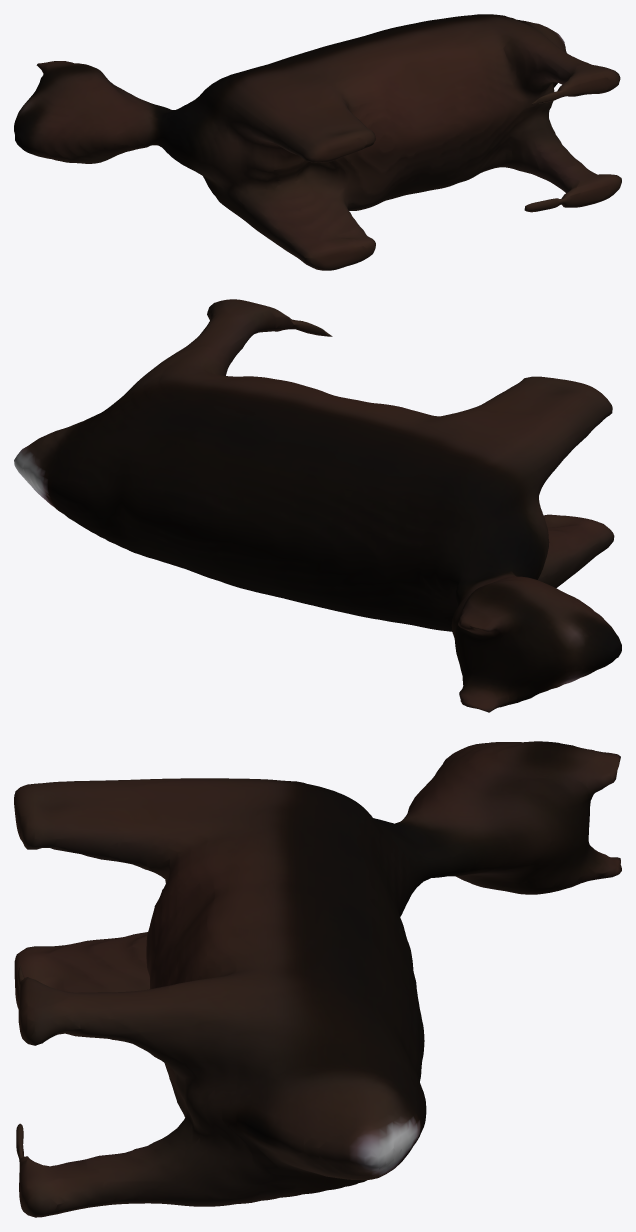
3 renders of one model, top to bottom at view 1: azimuth 30°, elevation 25°; view 2: azimuth 150°, elevation 25°; view 3: azimuth 270°, elevation 25°, orthographic. The views are drawn at different scales.
Visible parts, largest first — view 1: plyFile; view 2: plyFile; view 3: plyFile.
Part boxes in pixels (x1,y1,x2,y2): plyFile: (14, 14, 621, 270); plyFile: (14, 299, 621, 712); plyFile: (14, 741, 621, 1217).
Size of the model in its own units: 197 by 55.6 by 126.
